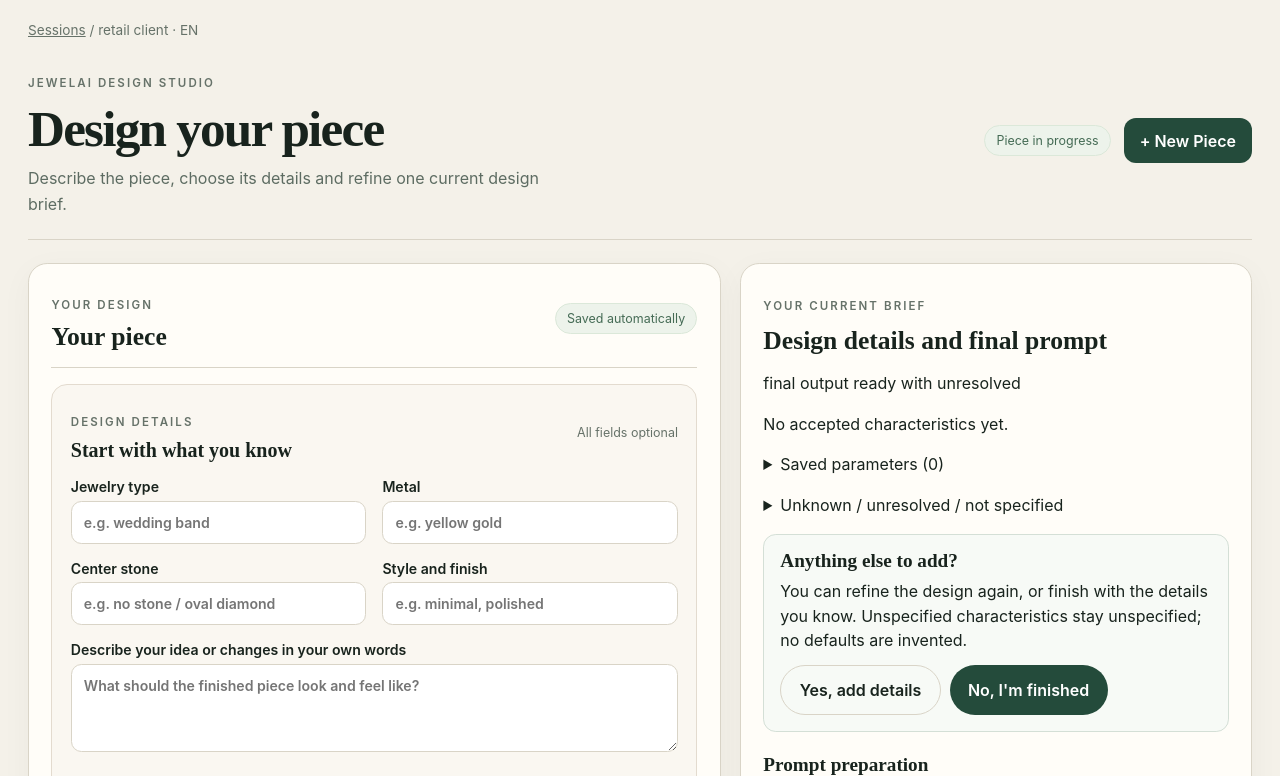
Test case: Prompt Enrichment workspace › keeps writes single-flight and hides the previous prompt while a change is pending
Click the button "No, I'm finished". click: point(1029, 690)
box: [950,665,1108,715]
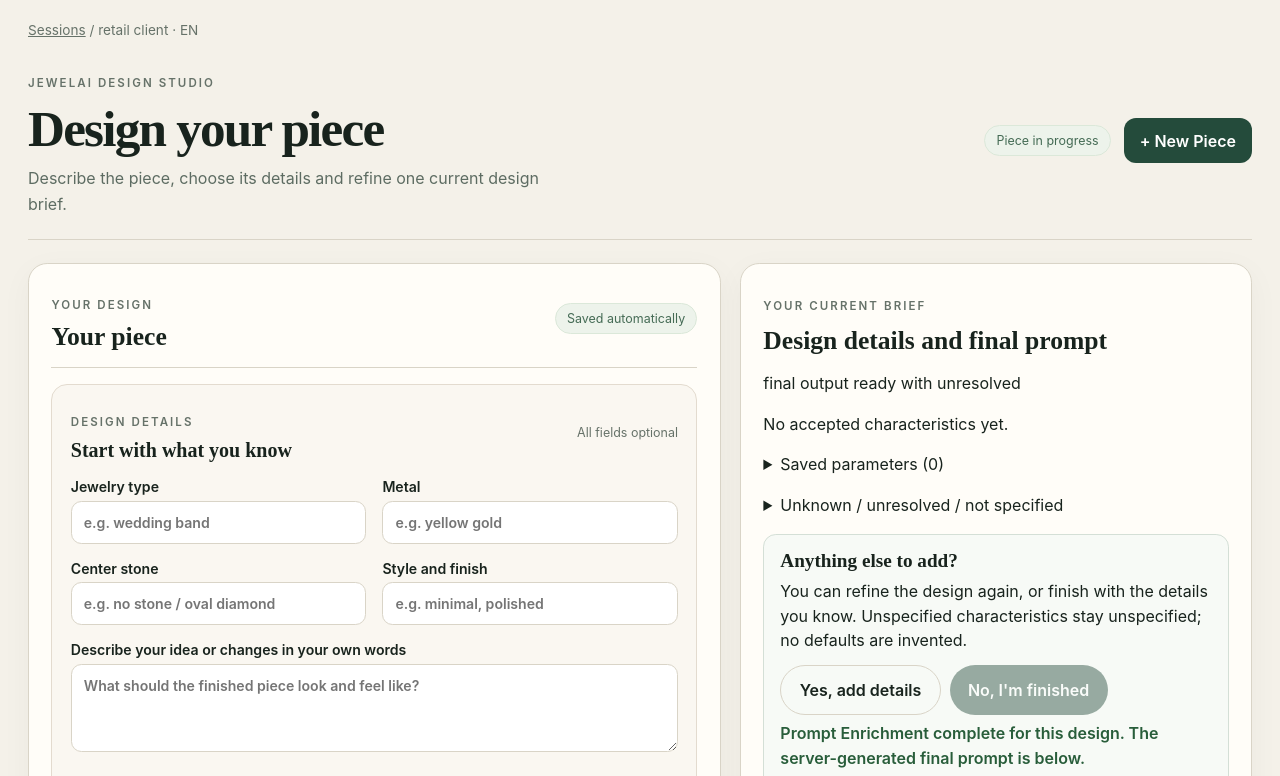
Type "A gold ring." into the text box named "Your message". click: point(374, 708)
box: [71,664,678,752]
(page scrolled)
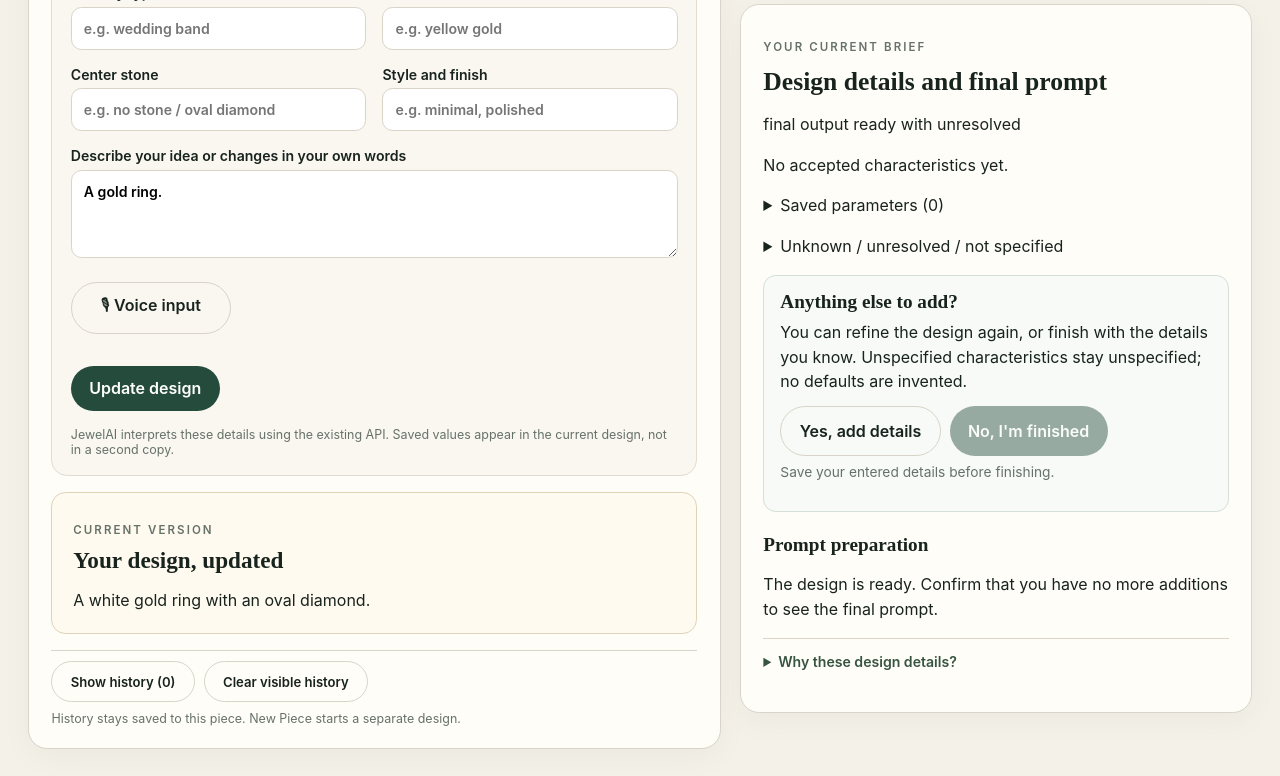
Click the button "Update design". click: point(145, 388)
box: [71,366,220,411]
(page scrolled)
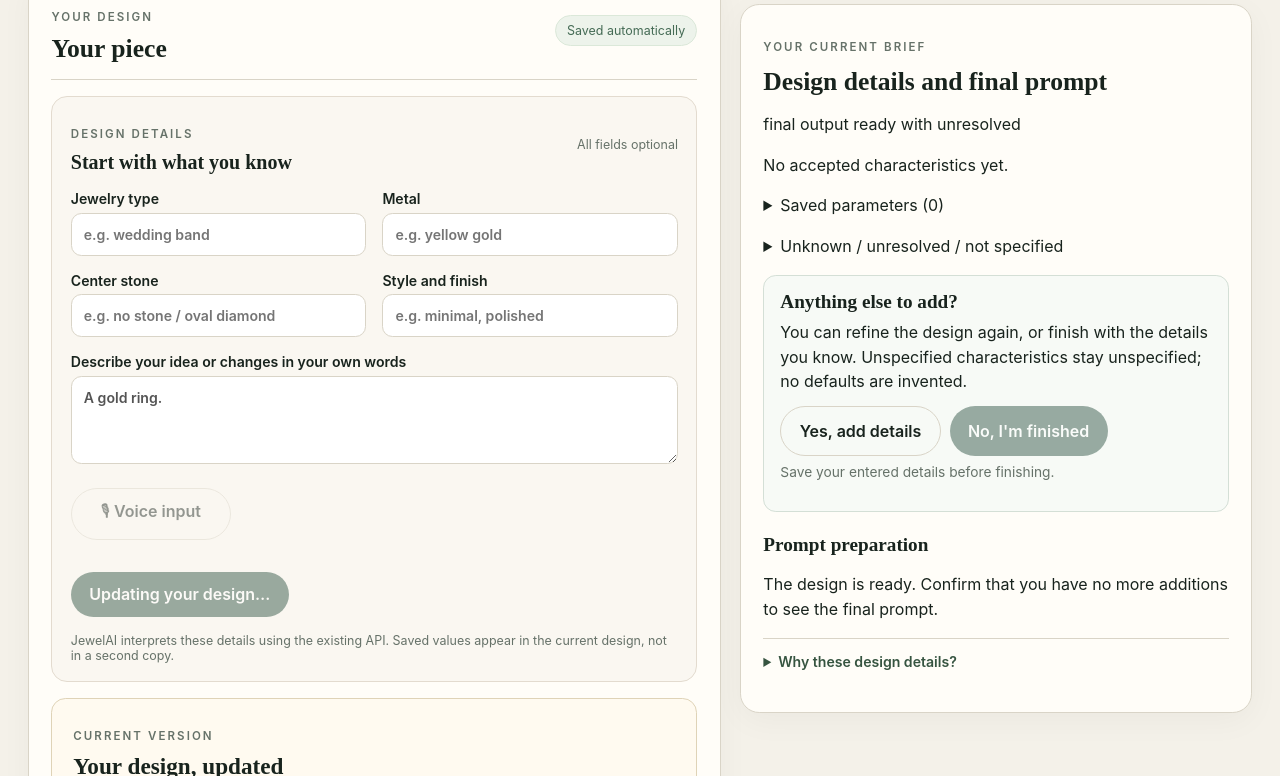
Result: the button "Updating your design…" is disabled at [71,572,289,617]
Result: the text box named "Your message" is disabled at [71,376,678,464]
Submit the form named "Your message", box [51,96,697,682]
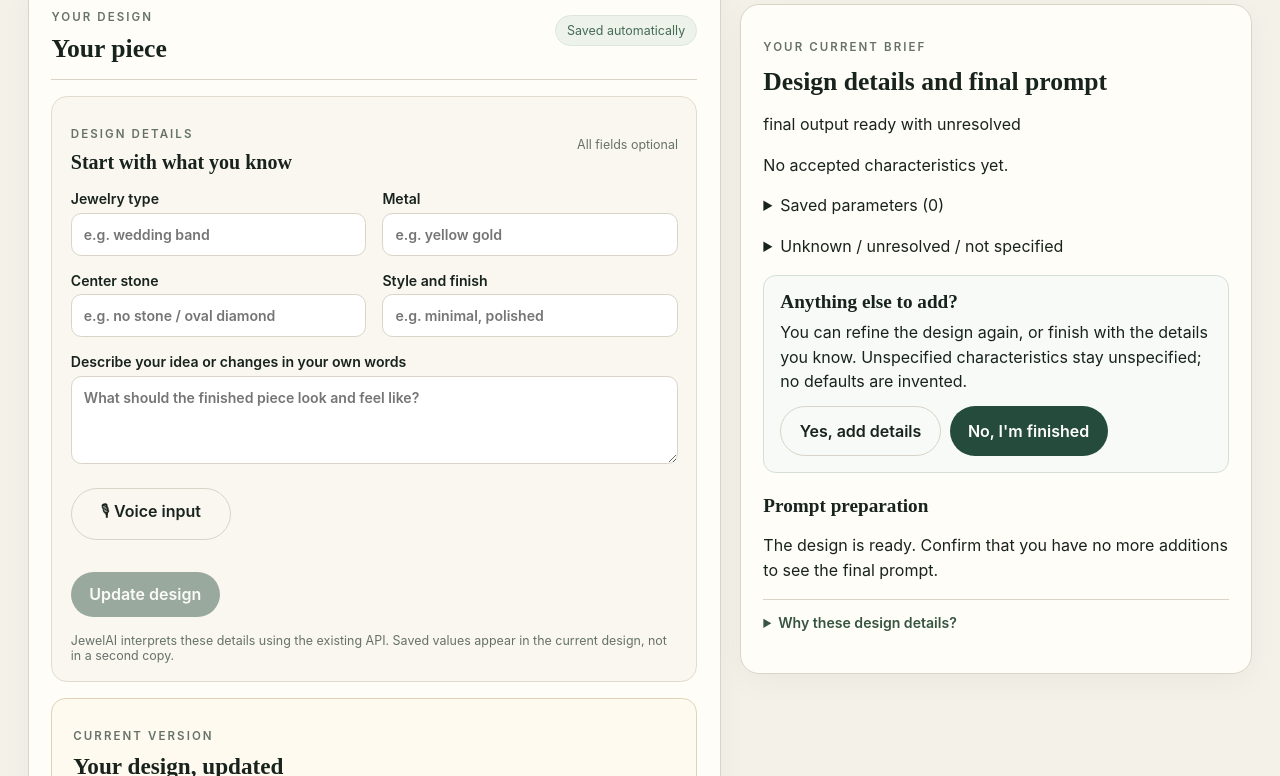
Result: the button "Update design" is shown at [71,572,220,617]
